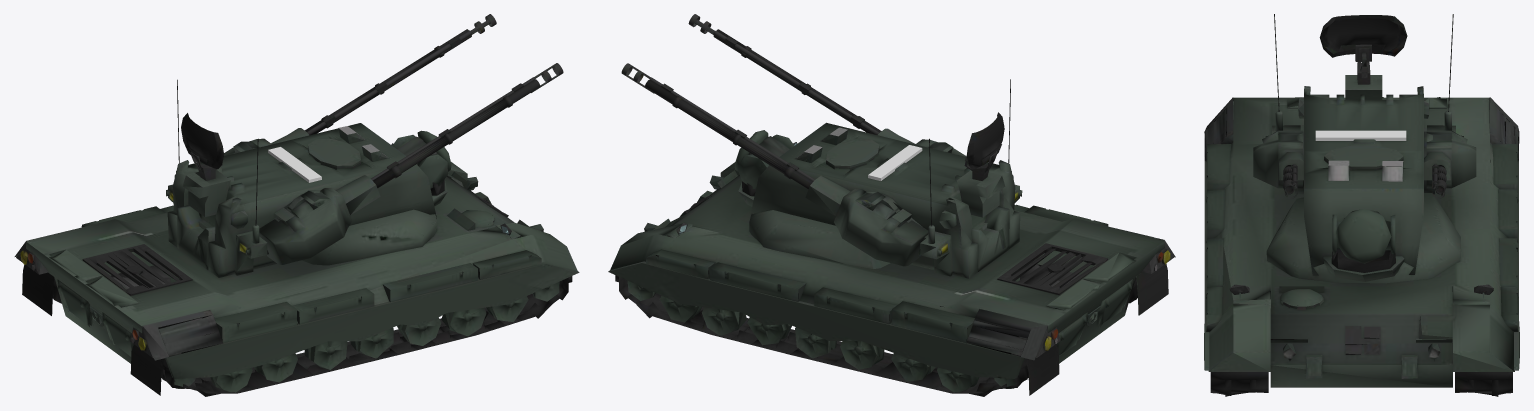
File: gepard.glb
The picture shows the model from 3 angles, left to right: view 1: azimuth 30°, elevation 25°; view 2: azimuth 150°, elevation 25°; view 3: azimuth 270°, elevation 25°; orthographic projection. The views are drawn at different scales.
Parts seen in each view (by area): view 1: g_gepard_hull, g_gepard_turret; view 2: g_gepard_hull, g_gepard_turret; view 3: g_gepard_hull, g_gepard_turret.
Part boxes in pixels (left/top/right/bottom): g_gepard_hull: left=14, top=126, right=579, bottom=396; g_gepard_turret: left=166, top=14, right=563, bottom=277; g_gepard_hull: left=608, top=127, right=1175, bottom=396; g_gepard_turret: left=621, top=14, right=1022, bottom=278; g_gepard_hull: left=1204, top=97, right=1519, bottom=396; g_gepard_turret: left=1253, top=14, right=1476, bottom=275.
Size of the model in its own units: 7.7 by 3.71 by 4.26.
Materials: 3 (2 with a texture image).
